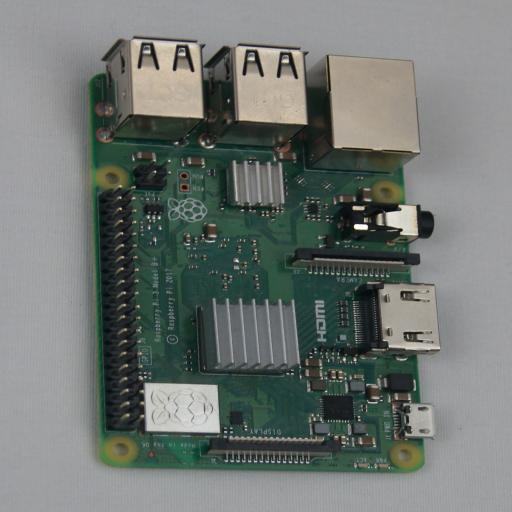Raspberry Pi 3 B-: (81, 36, 440, 473)
